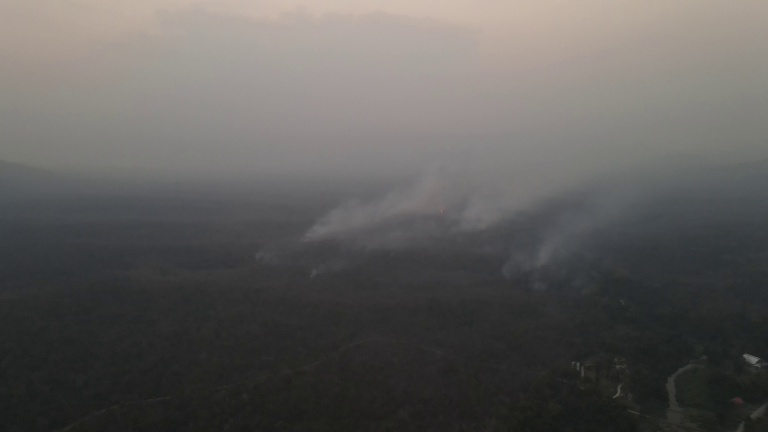fire: (435, 206, 446, 218)
smoke: (291, 136, 609, 283)
